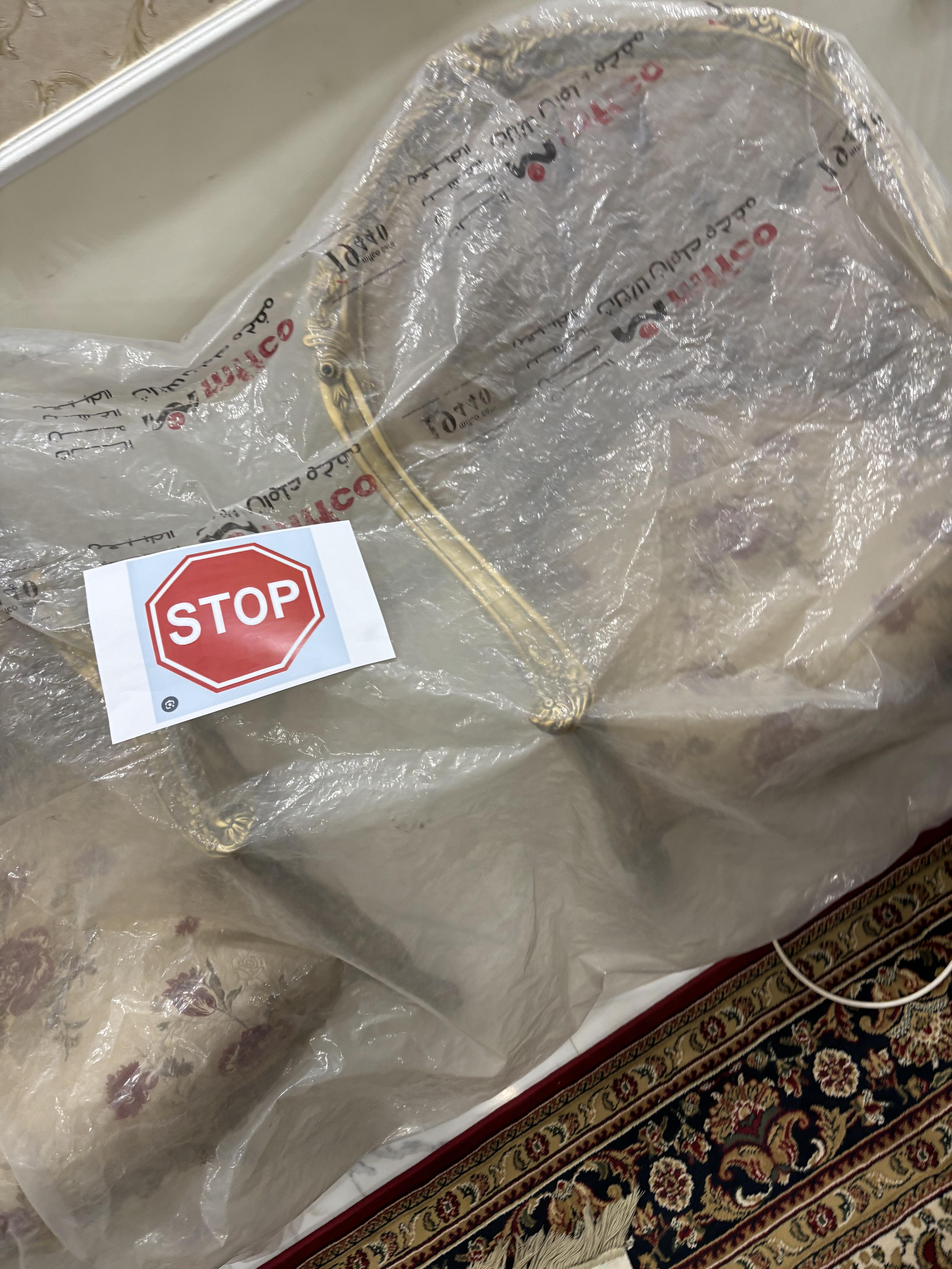Stop: (142, 537, 329, 693)
